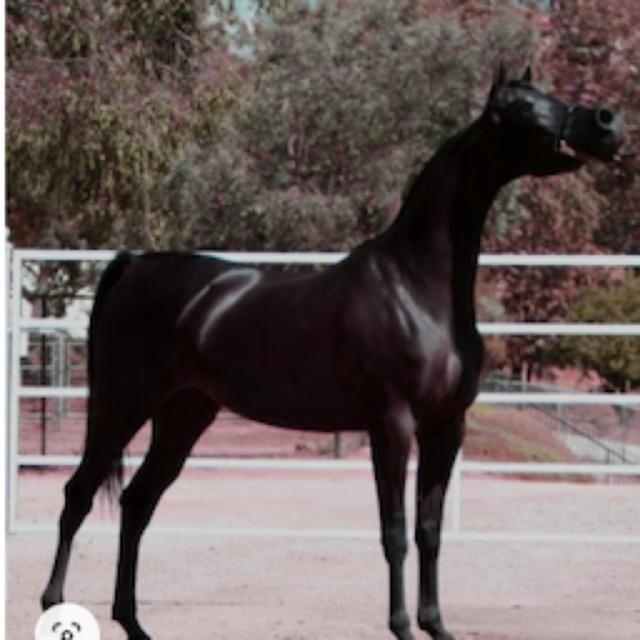Horse: (32, 55, 636, 638)
